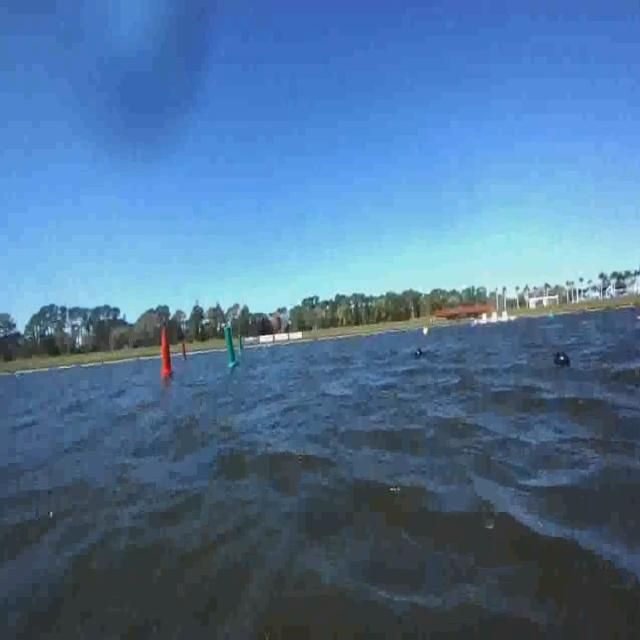green-column-buoy: (225, 325, 241, 368)
red-column-buoy: (160, 327, 175, 377), (184, 342, 190, 362)
